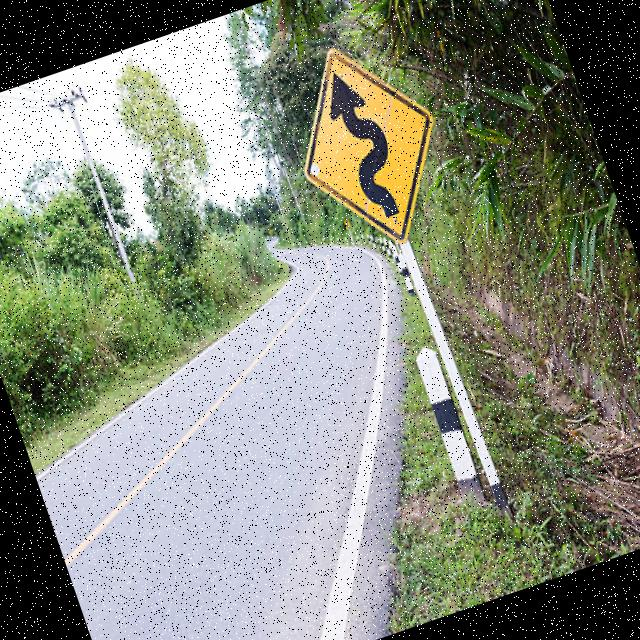left_sharp_curve: (264, 16, 470, 267)
